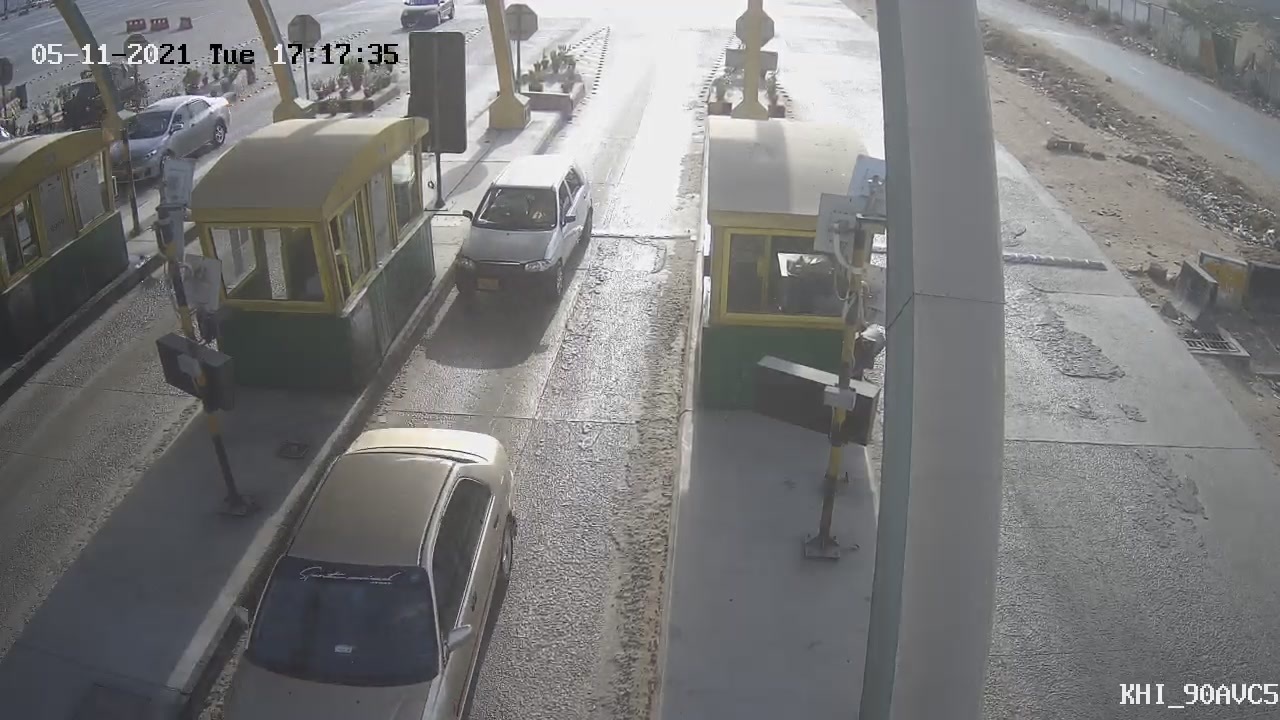F1: (426, 142, 612, 331)
